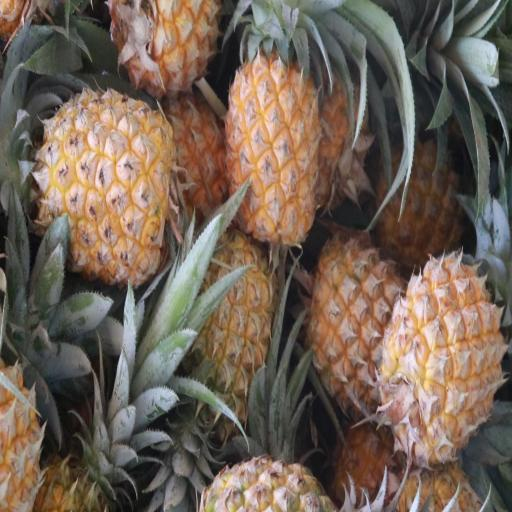------------------------------: (306, 240, 403, 406)
Pineapple - v8 v1: (41, 92, 168, 282), (386, 257, 500, 456), (226, 54, 319, 246), (190, 240, 273, 416), (376, 135, 464, 266), (114, 0, 218, 99)
